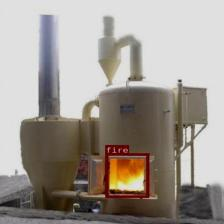fire: (105, 153, 148, 197)
